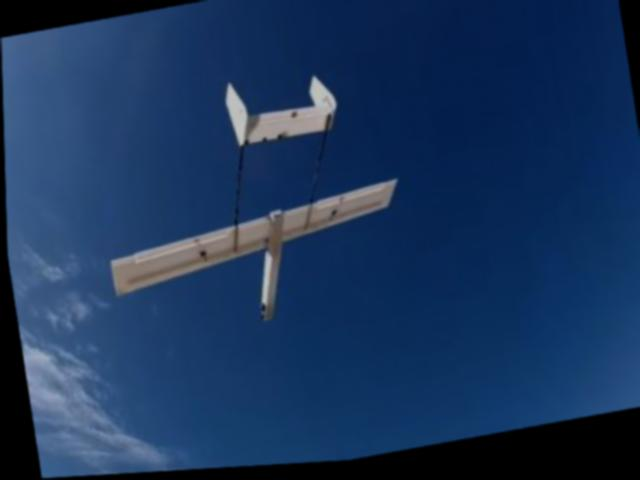uav: (81, 53, 422, 360)
